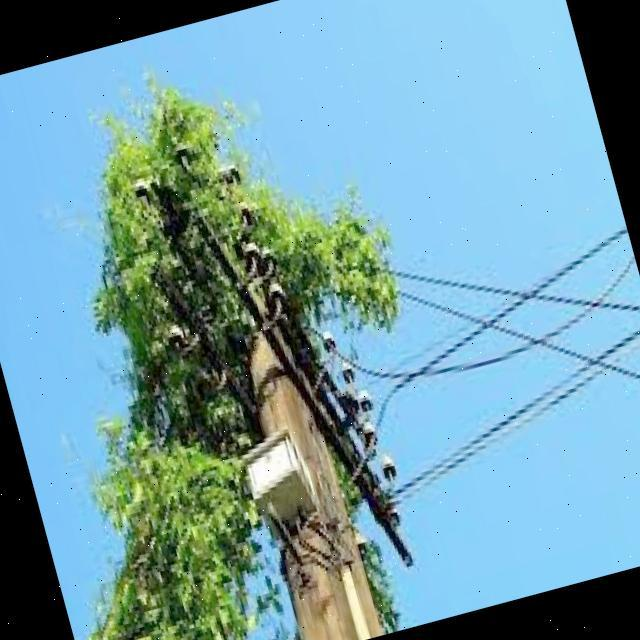critical vegetation: (12, 0, 501, 607)
